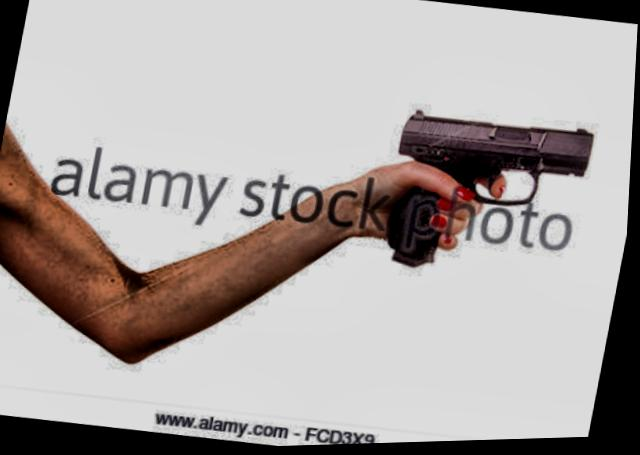pistol: (373, 101, 597, 292)
